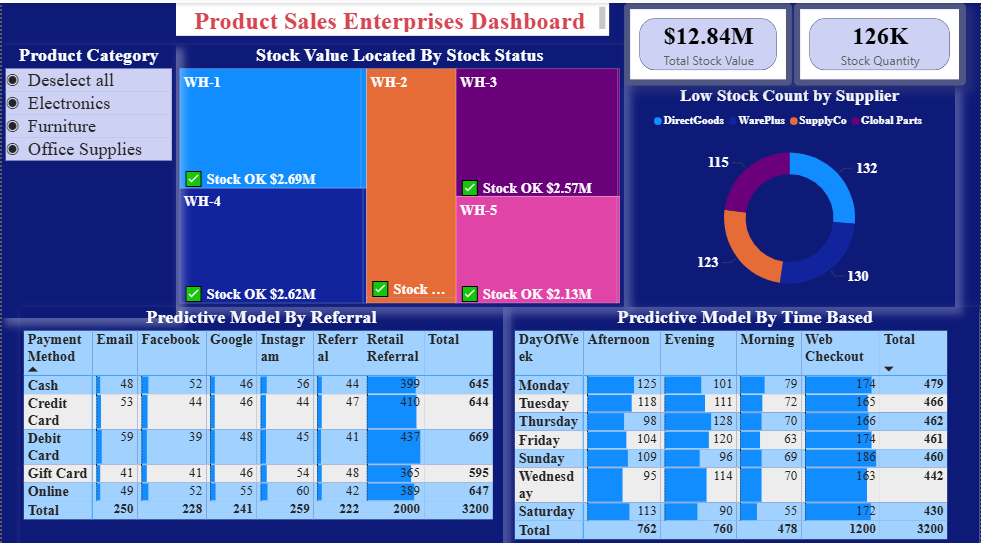

What the dashboard file says about the page in this screenshot:
{"tool":"powerbi","page":{"name":"PP- Dashboard","canvas":[1280,720],"ordinal":1},"visuals":[{"type":"pivotTable","title":"Predictive Model By Referral","fields":{"Rows":["Dim_sales_Order_Details.PaymentMethod"],"Columns":["Dim_sales_Order_Details.ReferralSource"],"Values":["Measure Table.Ordercount"]},"box":[23.6,398,632.3,322],"z":0},{"type":"pivotTable","title":"Predictive Model By Time Based","fields":{"Rows":["Dim_Time_Details.DayOfWeek"],"Columns":["Dim_Time_Details.TimeOfDay"],"Values":["Measure Table.Ordercount"]},"box":[666.7,397.4,613.4,322.6],"z":1000},{"type":"pieChart","fields":{"Y":["Measure Table.Low Stock Count"],"Category":["Inventory_Tracking.Supplier"]},"box":[813.6,108,433.4,289.4],"z":2000},{"type":"treemap","title":"Stock Value Located By Stock Status","fields":{"Values":["Sum(Inventory_Tracking.Stock Value)"],"Group":["Inventory_Tracking.StorageLocation"],"Details":["Inventory_Tracking.Stock Status"]},"box":[227.5,54.7,586.1,342.7],"z":3000},{"type":"listSlicer","fields":{"Values":["Inventory_Tracking.Product Category"]},"box":[0,54.7,227.5,357.1],"z":4000},{"type":"textbox","box":[227.5,0,567.4,43.2],"z":5000},{"type":"cardVisual","fields":{"Data":["Measure Table.Total Stock Value"]},"box":[813.6,0,220.3,108],"z":6000},{"type":"cardVisual","fields":{"Data":["Measure Table.Stock Quantity"]},"box":[1036.8,0,224.6,108],"z":7000}]}

Visuals, with their boxes in screenshot pixels (x1, y1, x2, y2), scaled from the page's 1280x720 canvas onto the 981x543 screenshot:
"Predictive Model By Referral" pivotTable: 18 300 503 542
"Predictive Model By Time Based" pivotTable: 511 300 980 542
pieChart - Measure Table.Low Stock Count x Inventory_Tracking.Supplier: 624 81 956 300
"Stock Value Located By Stock Status" treemap: 174 41 624 300
listSlicer - Inventory_Tracking.Product Category: 0 41 174 311
textbox: 174 0 609 33
cardVisual - Measure Table.Total Stock Value: 624 0 792 81
cardVisual - Measure Table.Stock Quantity: 795 0 967 81
